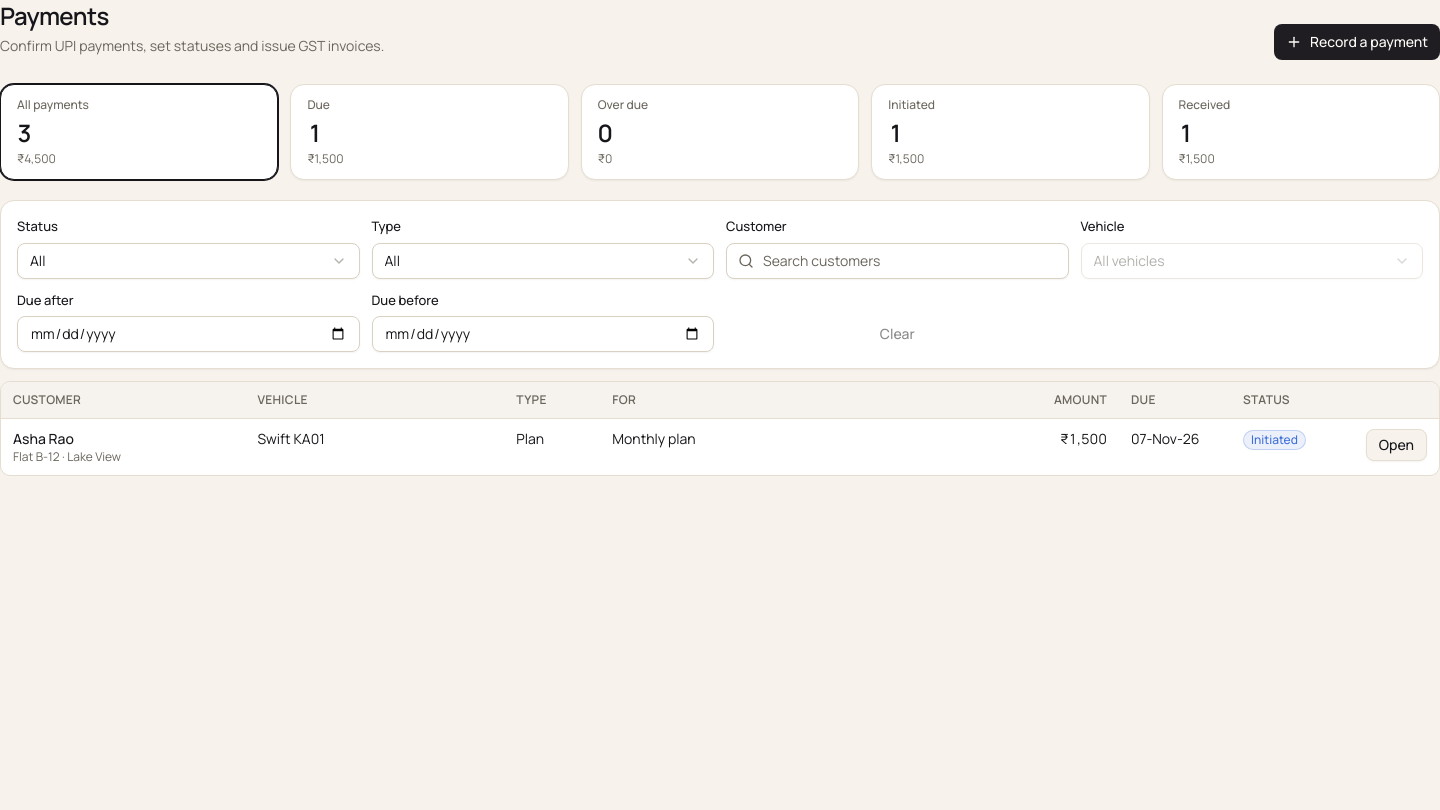
Test case: payments page › shows the error message from the API
Step 1. Click the button "Open" → (1396, 444), box [1366,428,1427,460]
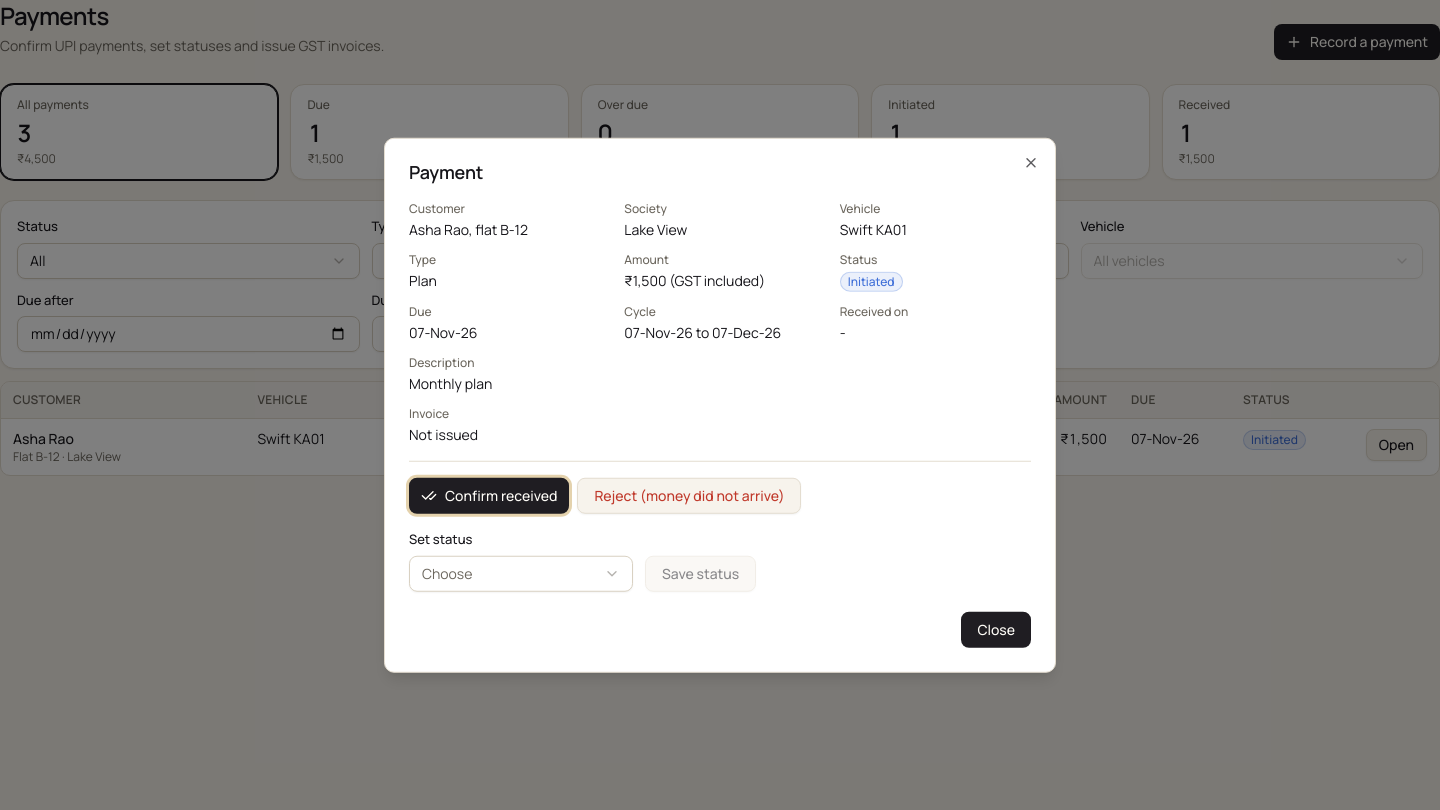
Step 2. Click the button "Reject (money did not arrive)" → (689, 496), box [577,478,802,514]
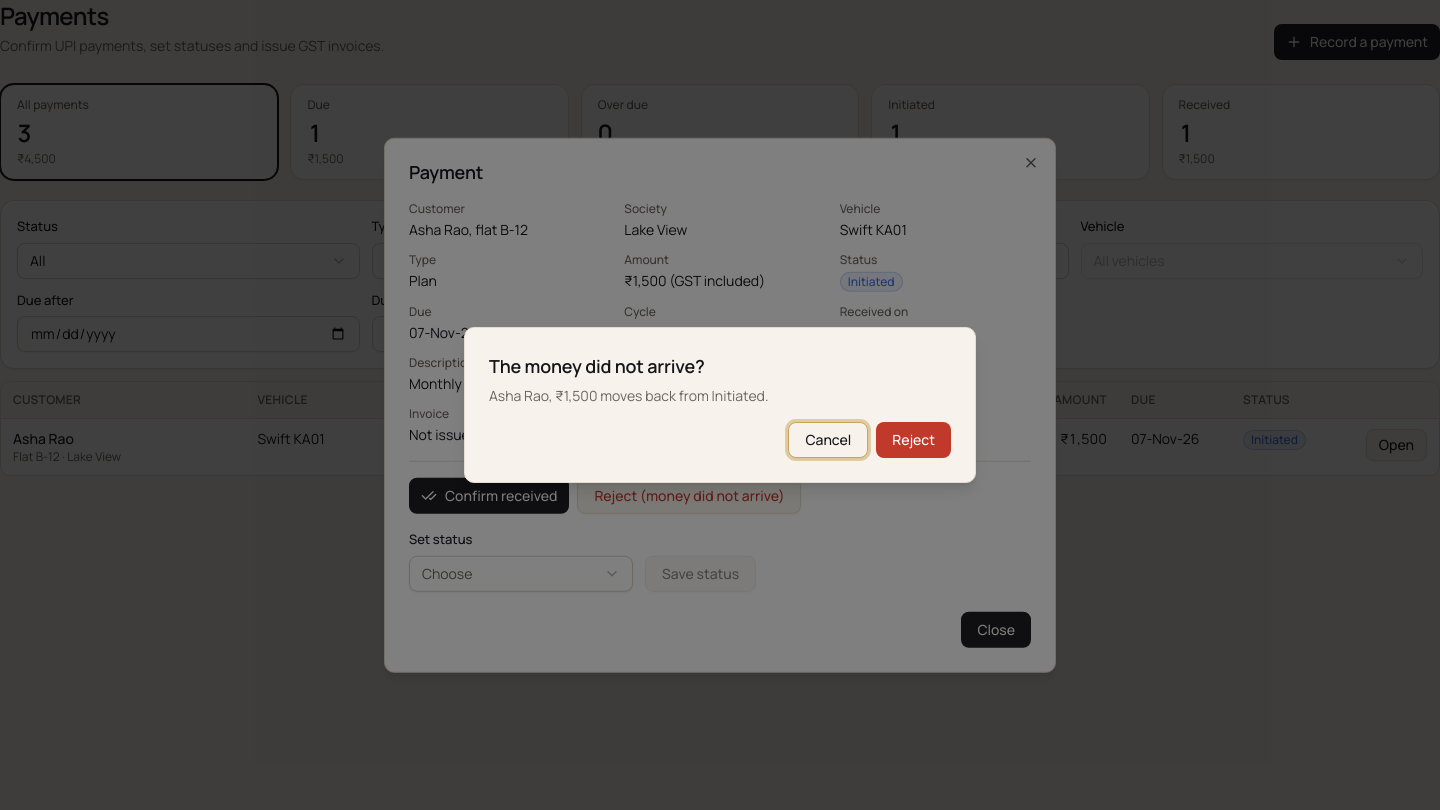
Step 3. Click the button "Reject" → (914, 440), box [876,422,951,458]
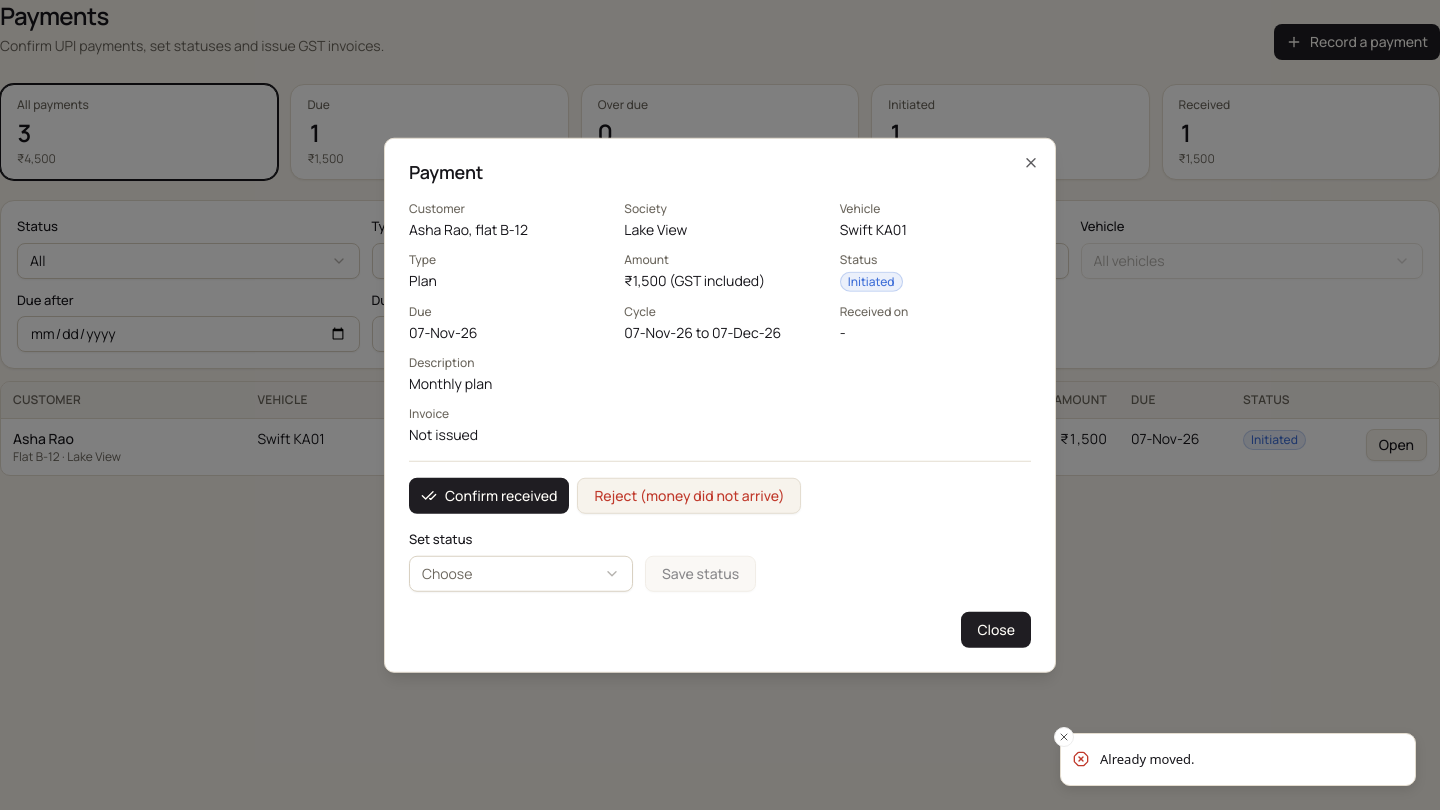
Check: the text "Already moved." is shown, box [1100,750,1195,769]
